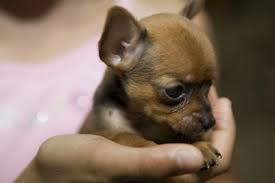chihuahua: (81, 1, 229, 170)
